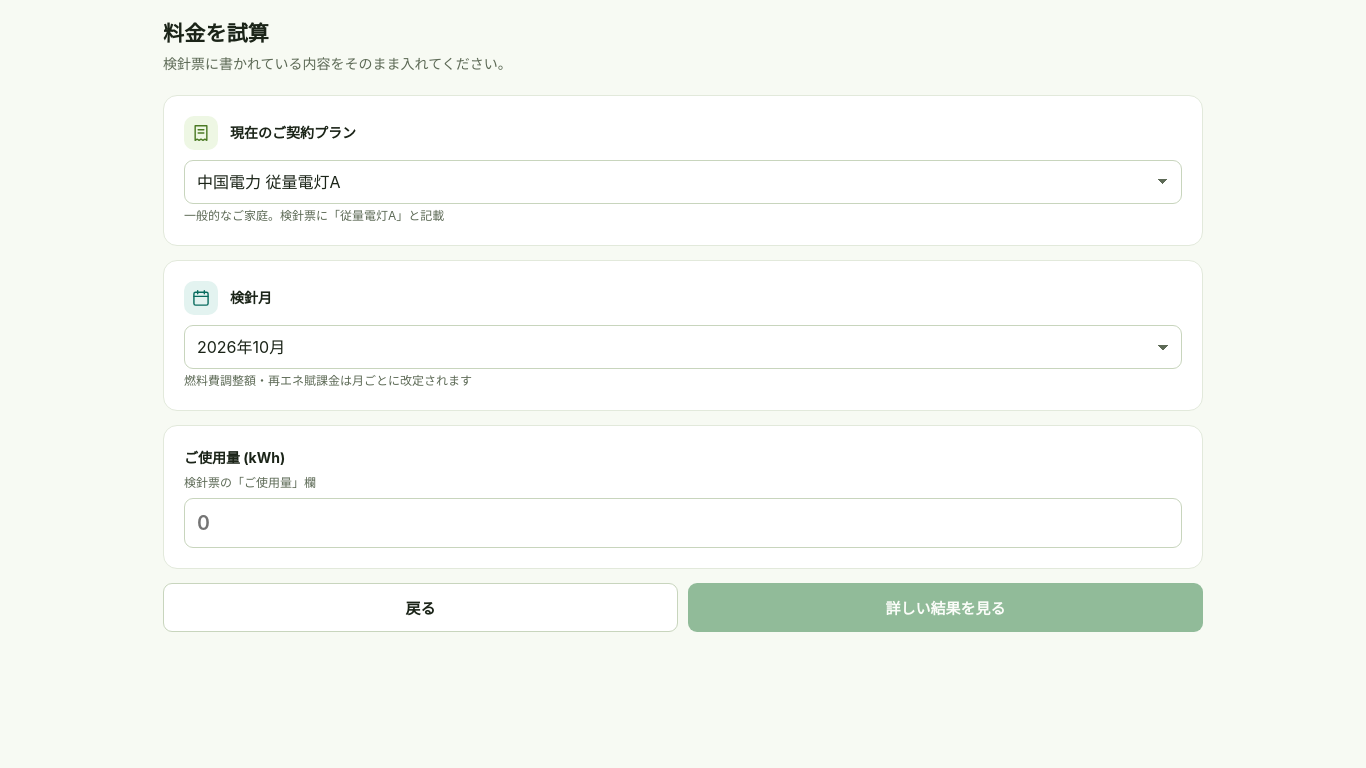
Scenario: プランごとに必要な入力だけを出す › 電化Styleは契約電力(kW)と3時間帯を聞く
Select "中国電力 電化Style" in the dropdown labelled "現在のご契約プラン": (683, 182) [184, 160, 1182, 204]
(page scrolled)
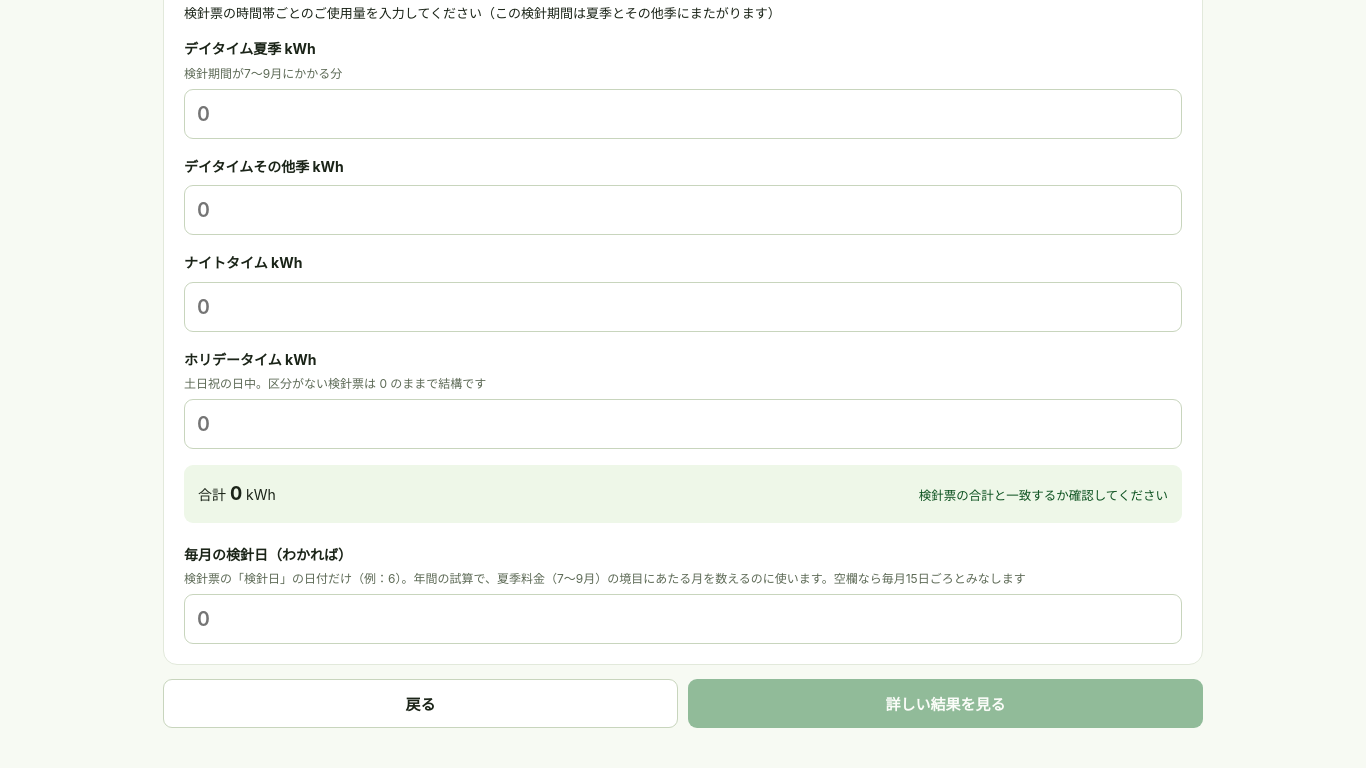
Result: the number field labelled "デイタイム夏季 kWh" is shown at [184, 89, 1182, 139]
Result: the number field labelled "ナイトタイム kWh" is shown at [184, 282, 1182, 332]
Result: the number field labelled "ホリデータイム kWh" is shown at [184, 399, 1182, 449]
